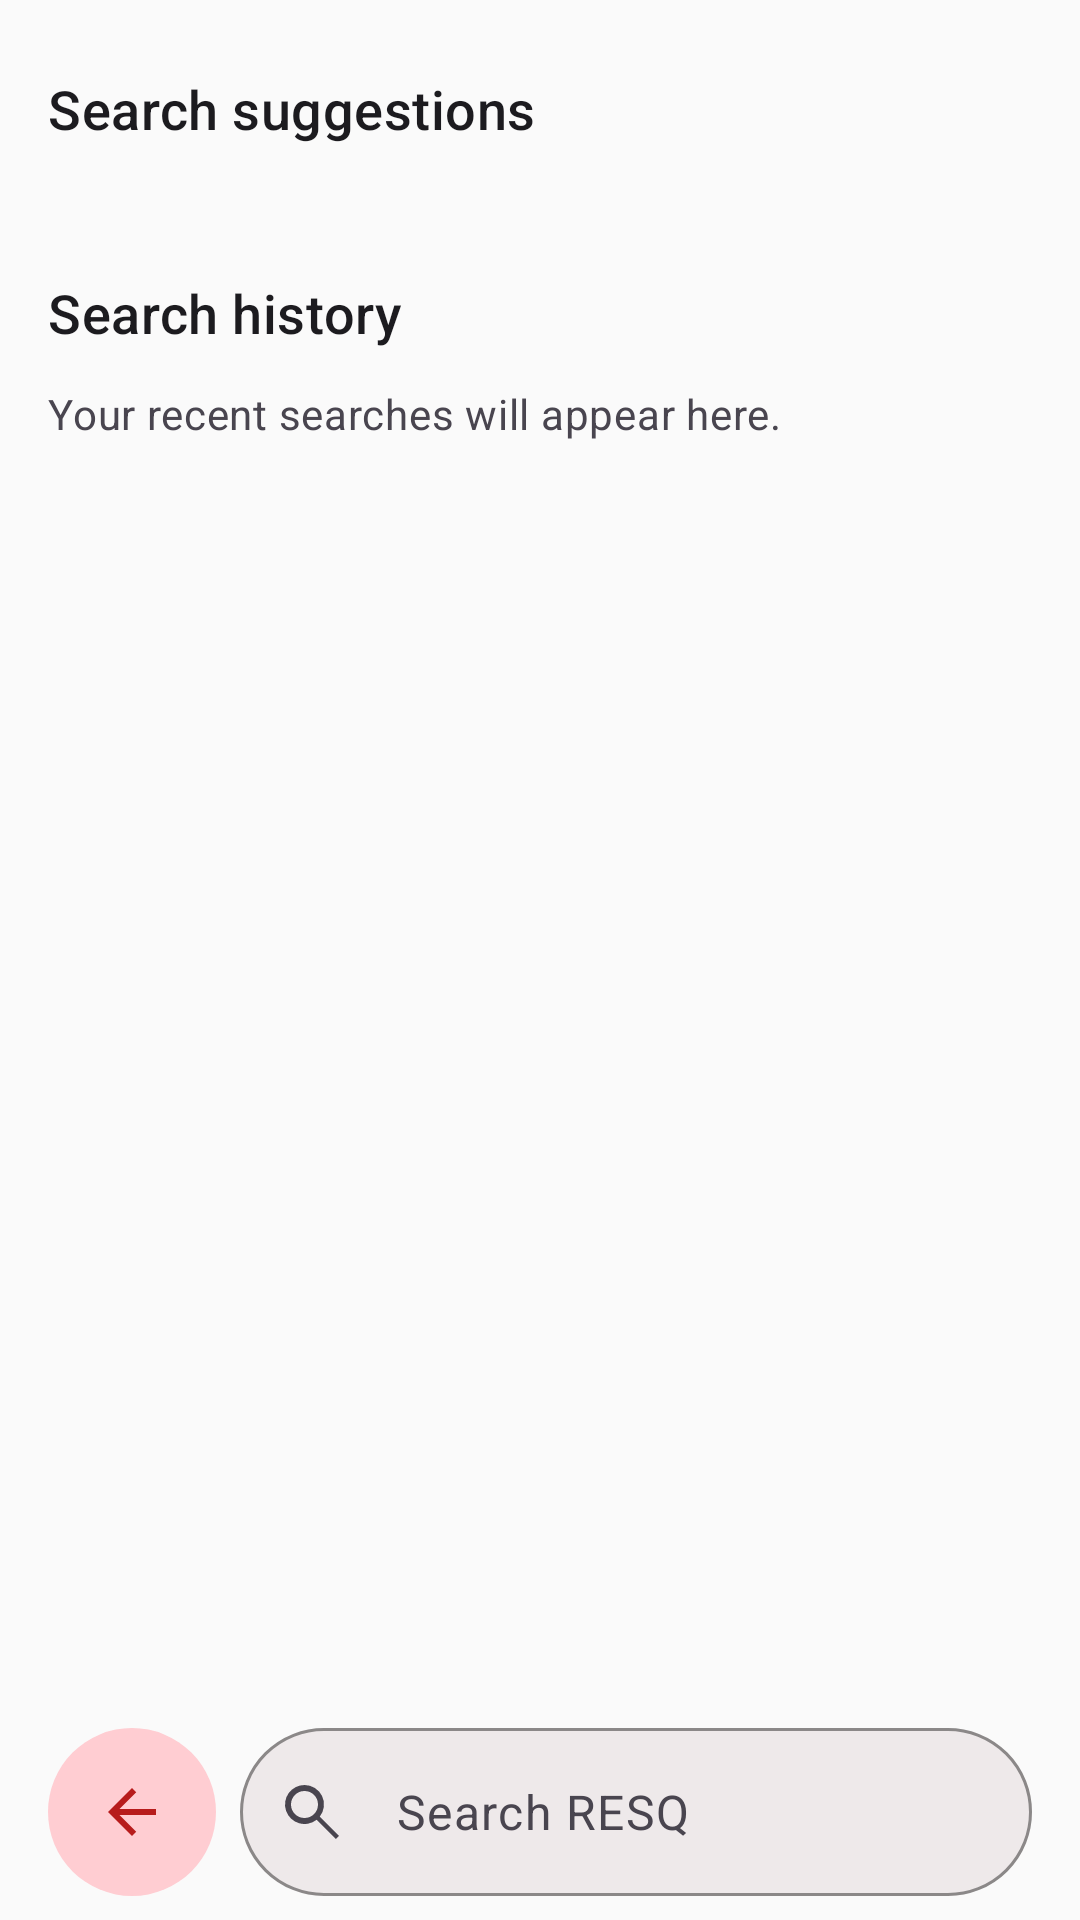

Where to tap for icons on this 1080x1920 app screen, as point (x, y):
Bumalik: point (132, 1812)
